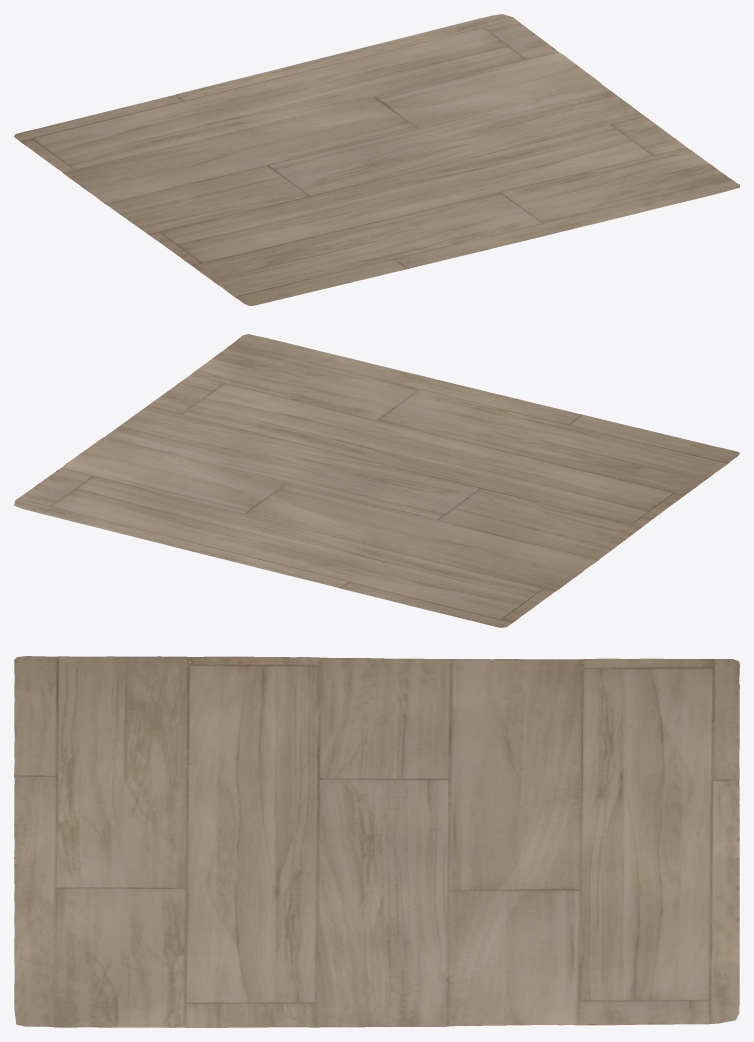
The model's file is cafeteria_tile_3d_scan.glb.
The picture shows the model from 3 angles, top to bottom: view 1: azimuth 30°, elevation 25°; view 2: azimuth 150°, elevation 25°; view 3: azimuth 270°, elevation 25°; orthographic projection. The views are drawn at different scales.
Visible parts, largest first — view 1: Object_2; view 2: Object_2; view 3: Object_2.
Part boxes in pixels (x1,y1,x2,y2): Object_2: [14, 14, 739, 305]; Object_2: [14, 334, 739, 627]; Object_2: [14, 656, 739, 1027].
Size of the model in its own units: 979 by 5.73 by 814.
Materials: 1 (1 with a texture image).
